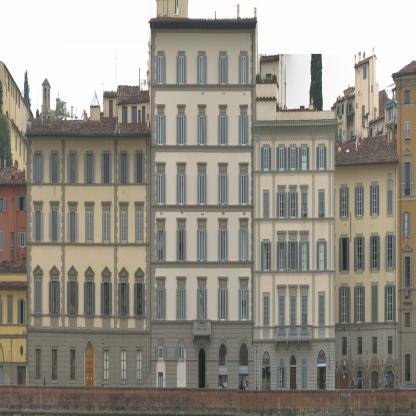Balcony: (192, 319, 212, 336)
Building Outline: (25, 4, 399, 399)
Cornice: (155, 337, 167, 357), (238, 337, 250, 357), (176, 337, 188, 357), (196, 337, 208, 357), (217, 337, 229, 357), (84, 264, 95, 277), (101, 265, 112, 277), (33, 263, 44, 275), (49, 264, 60, 276), (67, 264, 78, 276), (134, 266, 145, 278), (118, 266, 129, 278), (156, 103, 166, 109), (197, 103, 207, 109), (176, 276, 187, 281), (218, 276, 229, 281), (176, 161, 187, 166), (176, 217, 187, 222), (299, 284, 310, 289), (299, 230, 310, 235), (239, 104, 249, 109), (218, 104, 228, 109), (239, 276, 249, 281), (156, 276, 166, 281), (156, 161, 166, 166), (197, 161, 207, 166), (218, 162, 228, 167), (156, 217, 166, 222), (197, 217, 207, 222), (288, 184, 298, 189), (277, 284, 287, 289), (277, 230, 287, 235), (288, 230, 298, 235), (177, 104, 186, 109), (300, 184, 309, 189), (277, 184, 286, 189), (134, 201, 145, 205), (33, 201, 44, 205), (49, 201, 60, 205), (67, 201, 78, 205), (84, 201, 95, 205), (101, 201, 112, 205), (118, 202, 129, 206), (238, 162, 249, 166), (218, 218, 229, 222), (197, 276, 207, 280), (239, 218, 249, 222), (288, 285, 298, 289)
Door: (85, 345, 94, 399), (199, 348, 206, 399), (317, 367, 326, 400), (262, 366, 271, 397), (340, 373, 349, 400), (371, 371, 378, 399), (200, 288, 205, 322), (290, 375, 296, 399)
Facade: (24, 3, 399, 399)
Floor: (27, 262, 151, 333), (27, 199, 151, 263), (151, 276, 256, 337), (151, 218, 256, 276), (151, 104, 256, 162), (151, 162, 256, 217), (254, 284, 335, 343), (254, 230, 335, 284), (254, 184, 335, 230), (335, 283, 398, 335), (335, 233, 398, 283)
Floor Slab: (27, 194, 151, 200), (27, 256, 151, 262), (27, 327, 151, 333), (151, 98, 256, 104), (152, 270, 257, 276), (151, 212, 256, 218), (151, 156, 256, 162), (151, 331, 256, 337), (254, 178, 335, 184), (254, 278, 335, 284), (254, 224, 335, 230), (254, 338, 335, 344), (335, 228, 398, 234), (335, 277, 398, 283), (335, 330, 398, 336)
Ground Floor: (27, 333, 151, 399), (151, 338, 256, 400), (254, 344, 335, 400), (335, 336, 398, 400)
Molding: (254, 123, 337, 143), (253, 269, 335, 277), (253, 218, 335, 225), (253, 170, 335, 177)
Roof: (25, 116, 151, 135), (335, 130, 399, 164)
Shop: (239, 374, 248, 389), (317, 350, 326, 363), (219, 375, 227, 388), (218, 367, 228, 375), (239, 367, 248, 374)
Top Floor: (27, 135, 151, 199), (151, 29, 256, 104), (254, 125, 335, 183), (335, 162, 398, 233)
Window: (387, 285, 393, 322), (239, 343, 248, 366), (219, 344, 228, 367), (35, 281, 41, 314), (178, 173, 184, 205), (121, 212, 127, 243), (372, 286, 377, 323), (342, 287, 347, 323), (357, 287, 362, 323), (104, 283, 109, 316), (121, 284, 126, 317), (137, 284, 142, 317), (87, 282, 92, 315), (70, 282, 75, 315), (52, 281, 57, 314), (291, 296, 296, 329), (388, 235, 393, 268), (372, 236, 377, 269), (357, 237, 362, 270), (242, 228, 247, 260), (241, 288, 246, 320), (221, 229, 226, 261), (221, 288, 226, 320), (179, 288, 184, 320), (159, 288, 164, 320), (200, 230, 205, 262), (280, 296, 285, 328), (302, 296, 307, 328), (342, 238, 347, 270), (137, 212, 142, 243), (104, 212, 109, 243), (87, 212, 92, 243), (70, 212, 75, 243), (36, 349, 41, 380), (159, 174, 164, 205), (179, 230, 184, 261), (159, 230, 164, 261), (36, 212, 41, 242), (52, 212, 57, 242), (70, 350, 75, 380), (52, 350, 57, 380), (104, 350, 109, 380), (121, 350, 126, 380), (179, 115, 184, 145), (200, 115, 205, 145), (242, 115, 247, 145), (242, 174, 247, 204), (221, 174, 226, 204), (200, 174, 205, 204), (264, 296, 269, 326), (319, 296, 324, 326), (137, 350, 142, 380), (137, 154, 142, 183), (121, 154, 126, 183), (104, 154, 109, 183), (36, 154, 41, 183), (87, 154, 92, 183), (70, 154, 75, 183), (52, 154, 57, 183), (179, 55, 184, 84), (372, 186, 377, 215), (386, 371, 394, 389), (200, 55, 205, 83), (241, 56, 246, 84), (319, 242, 324, 270), (264, 242, 269, 270), (302, 242, 307, 270), (291, 242, 296, 270), (279, 242, 284, 270), (262, 351, 271, 366), (319, 192, 324, 217), (264, 192, 269, 217), (280, 192, 285, 217), (291, 192, 296, 217), (302, 192, 307, 217), (279, 365, 284, 390), (159, 115, 163, 145), (221, 115, 225, 145), (264, 147, 269, 171), (279, 147, 284, 171), (291, 147, 296, 171), (302, 147, 307, 171), (302, 366, 307, 390), (159, 55, 163, 84), (221, 56, 225, 85), (342, 188, 346, 217), (357, 187, 361, 216), (319, 147, 324, 170), (158, 372, 163, 392), (388, 190, 392, 214), (342, 337, 347, 355), (372, 337, 377, 354), (179, 344, 184, 360), (358, 336, 362, 355), (388, 336, 392, 354), (290, 355, 296, 365), (159, 346, 163, 360), (290, 367, 296, 375), (302, 357, 307, 365), (279, 358, 284, 365), (357, 371, 362, 378)
